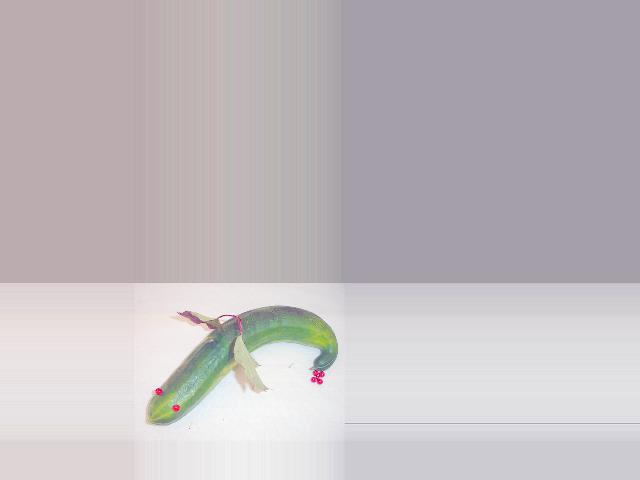cucumber: (148, 305, 338, 425)
